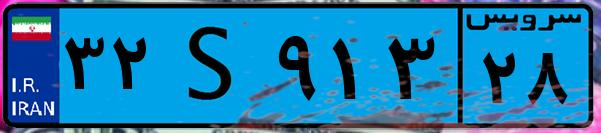1: (330, 28, 385, 110)
2: (475, 38, 525, 113), (110, 28, 158, 98)
3: (385, 28, 445, 110), (57, 26, 110, 100)
8: (525, 38, 570, 115)
9: (270, 28, 330, 110)
S: (158, 12, 270, 120)
